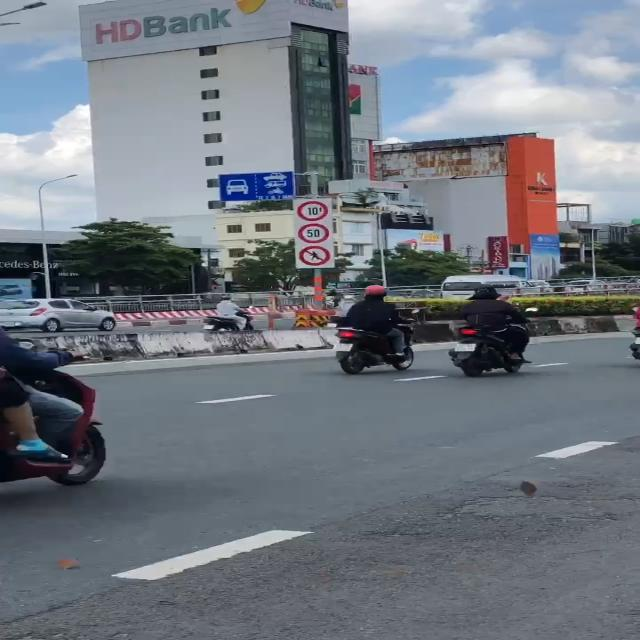Bien bao cam nguoi di bo: (298, 243, 332, 268)
Bien bao toc do toi da cho phep: (295, 222, 332, 244)
